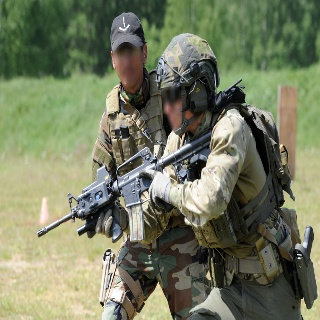rifle: (37, 128, 214, 241)
